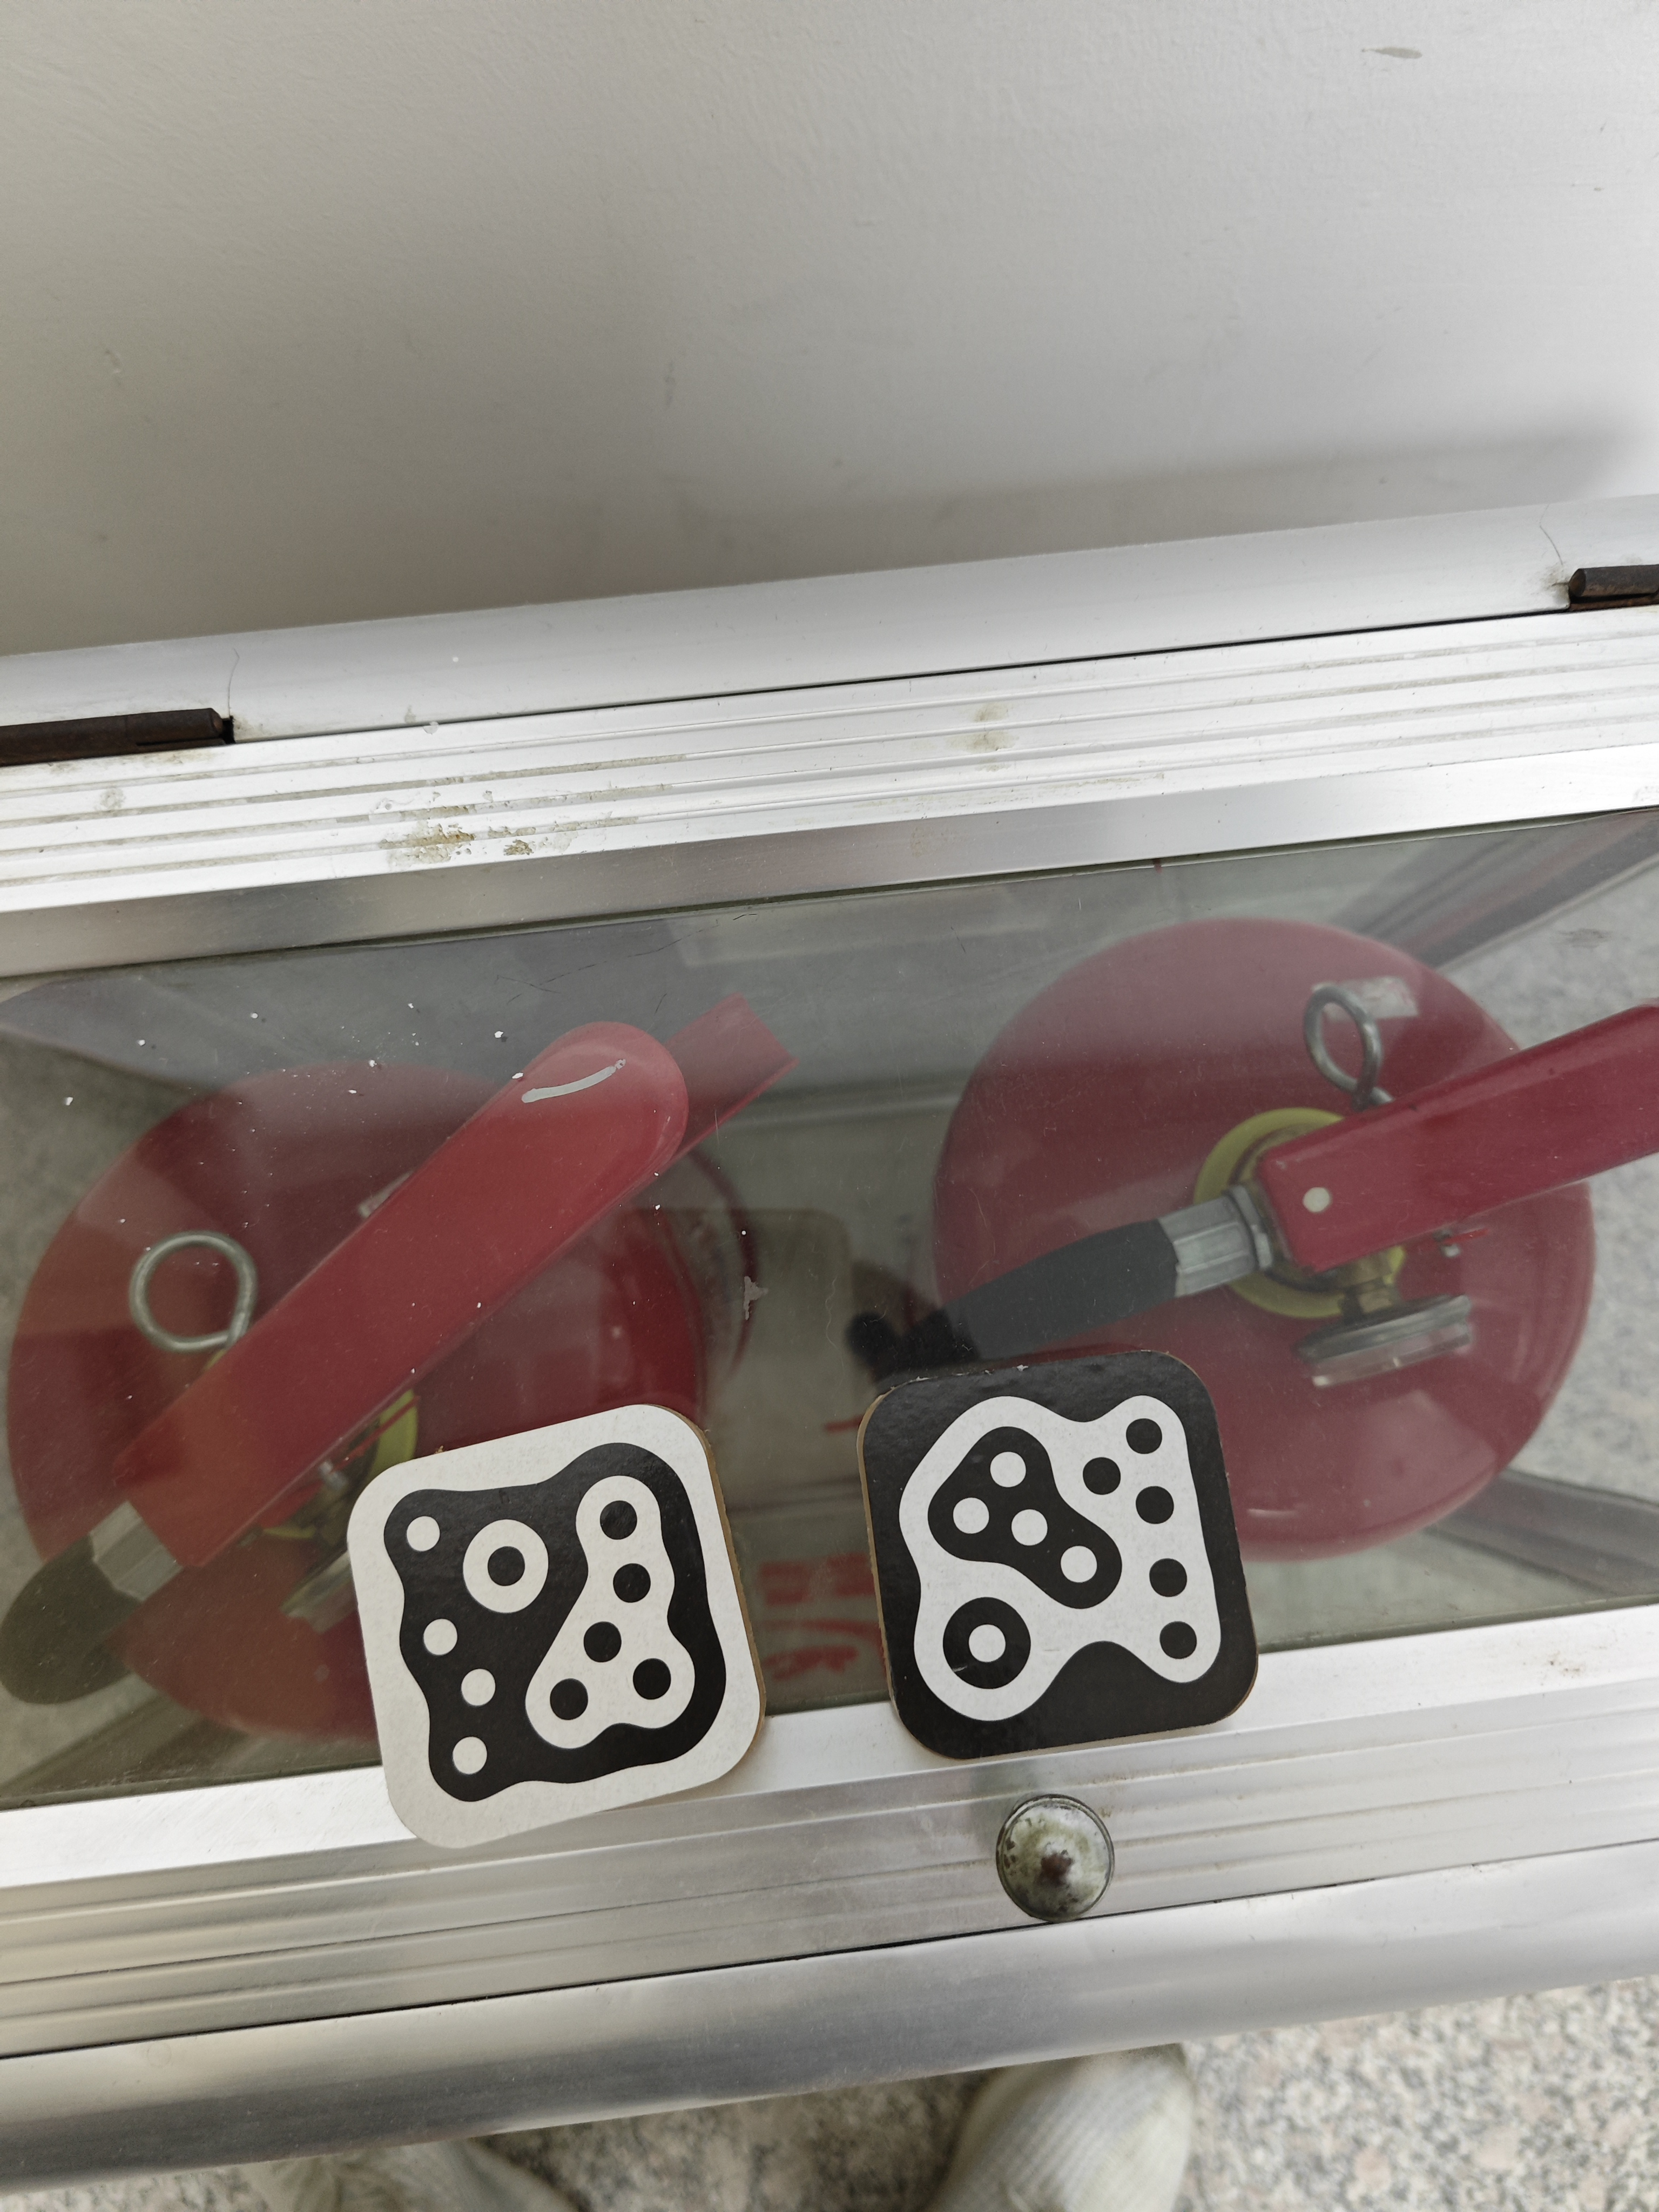mark1: (387, 1451, 730, 1804)
mark2: (901, 1381, 1227, 1716)
